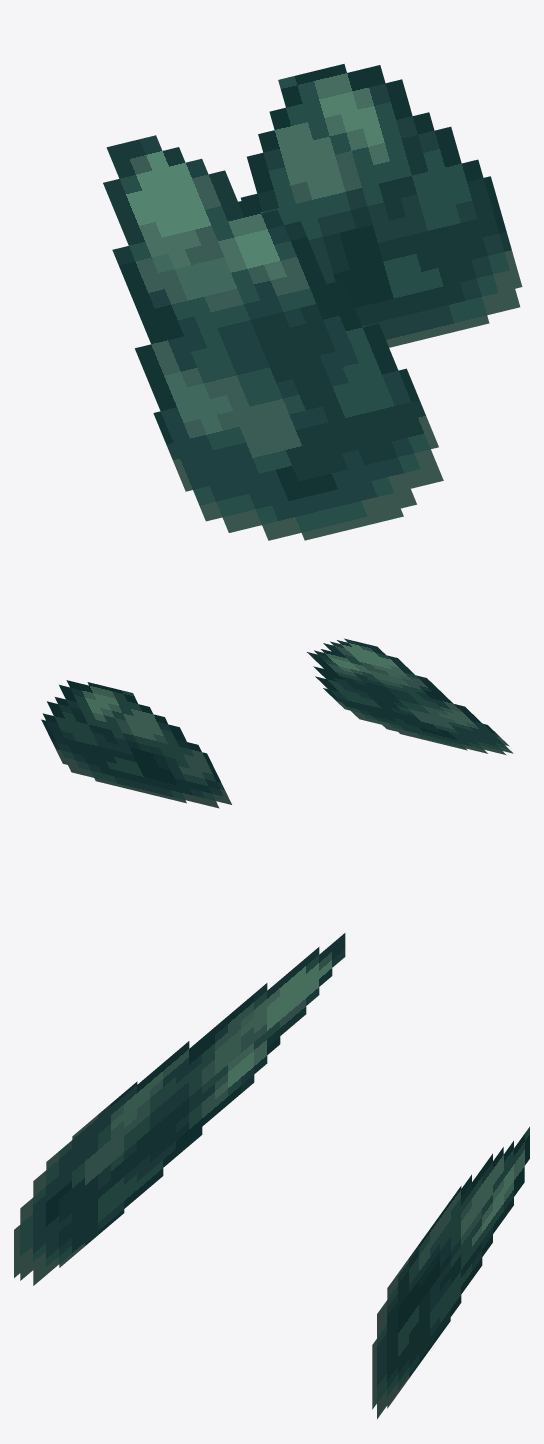
3 views of the same model, one above another, from view 1: azimuth 30°, elevation 25°; view 2: azimuth 150°, elevation 25°; view 3: azimuth 270°, elevation 25° (orthographic). The views are drawn at different scales.
Size of the model in its own units: 2 by 1.33 by 1.81.
1 material, 1 textured.
